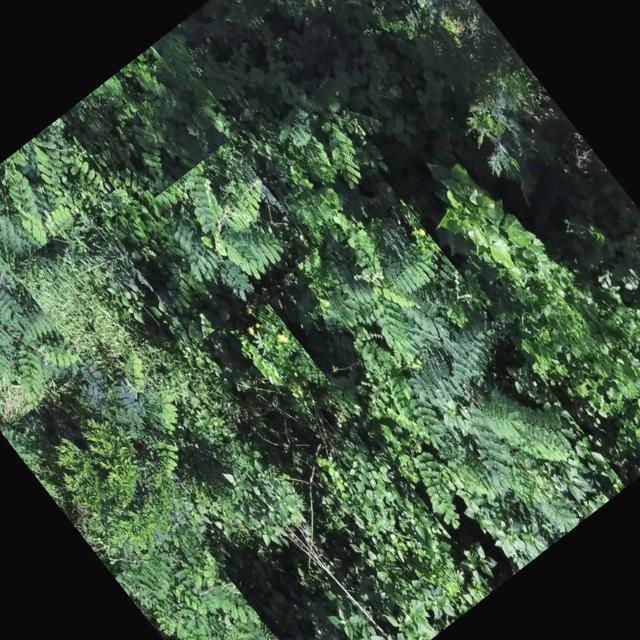Mysore-Thorn-Weed: (268, 198, 627, 590), (102, 131, 316, 344), (115, 523, 329, 640), (80, 45, 228, 198), (268, 67, 410, 216), (0, 198, 87, 432), (0, 117, 115, 269)
